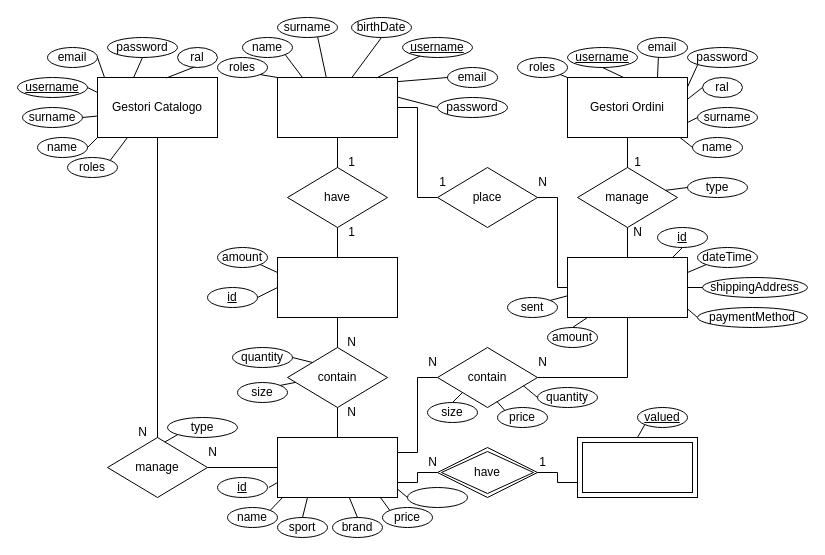
Image size: 825x555. Some labels were removed from this diagram. Here are the shapes that lost their labels. From the top down, the centre of each, then its label:
At point (337, 107): "Clienti".
At point (337, 287): "Carts".
At point (627, 287): "Orders".
At point (337, 467): "Products".
At point (637, 467): "Sizes".
At point (437, 497): "removed".
